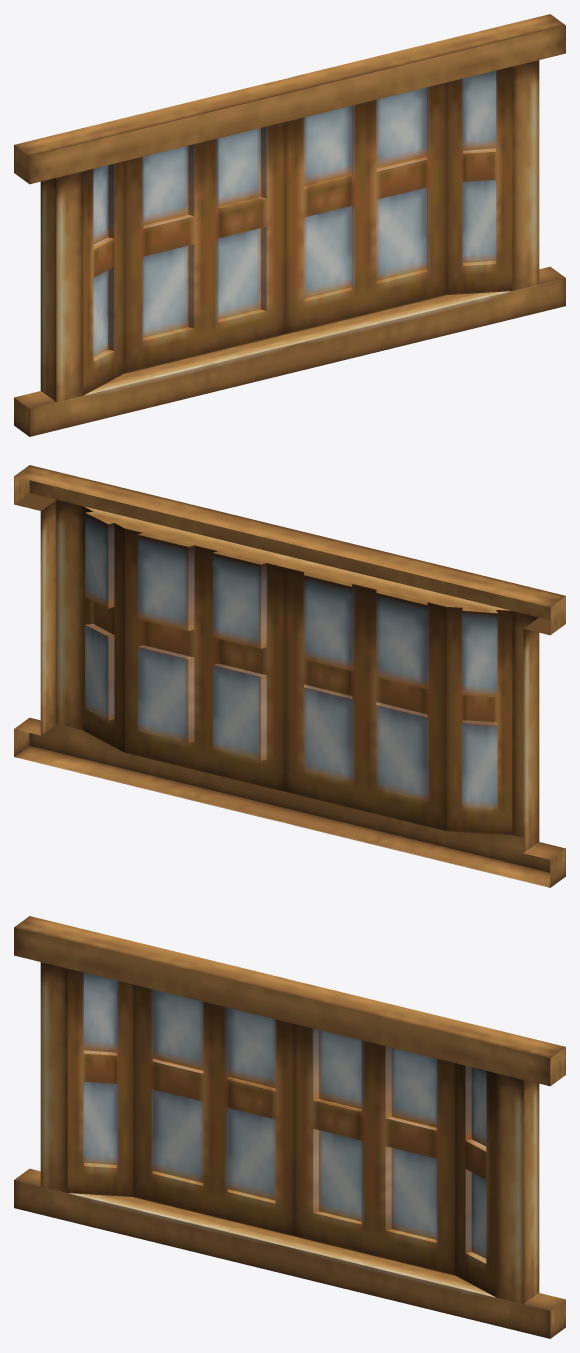
Rendered from Inside_Poly_Window_01.obj.
3 renders of one model, top to bottom at view 1: azimuth 30°, elevation 25°; view 2: azimuth 150°, elevation 25°; view 3: azimuth 330°, elevation 25°, orthographic.
Visible parts, largest first — view 1: Cube_Cube.003; view 2: Cube_Cube.003; view 3: Cube_Cube.003.
Part boxes in pixels (left/top/right/bottom): Cube_Cube.003: left=14, top=14, right=565, bottom=436; Cube_Cube.003: left=14, top=465, right=565, bottom=887; Cube_Cube.003: left=14, top=916, right=565, bottom=1338.
Bounding box in the file's own units: 2 × 1 × 0.101.
Materials: 1 (1 with a texture image).
